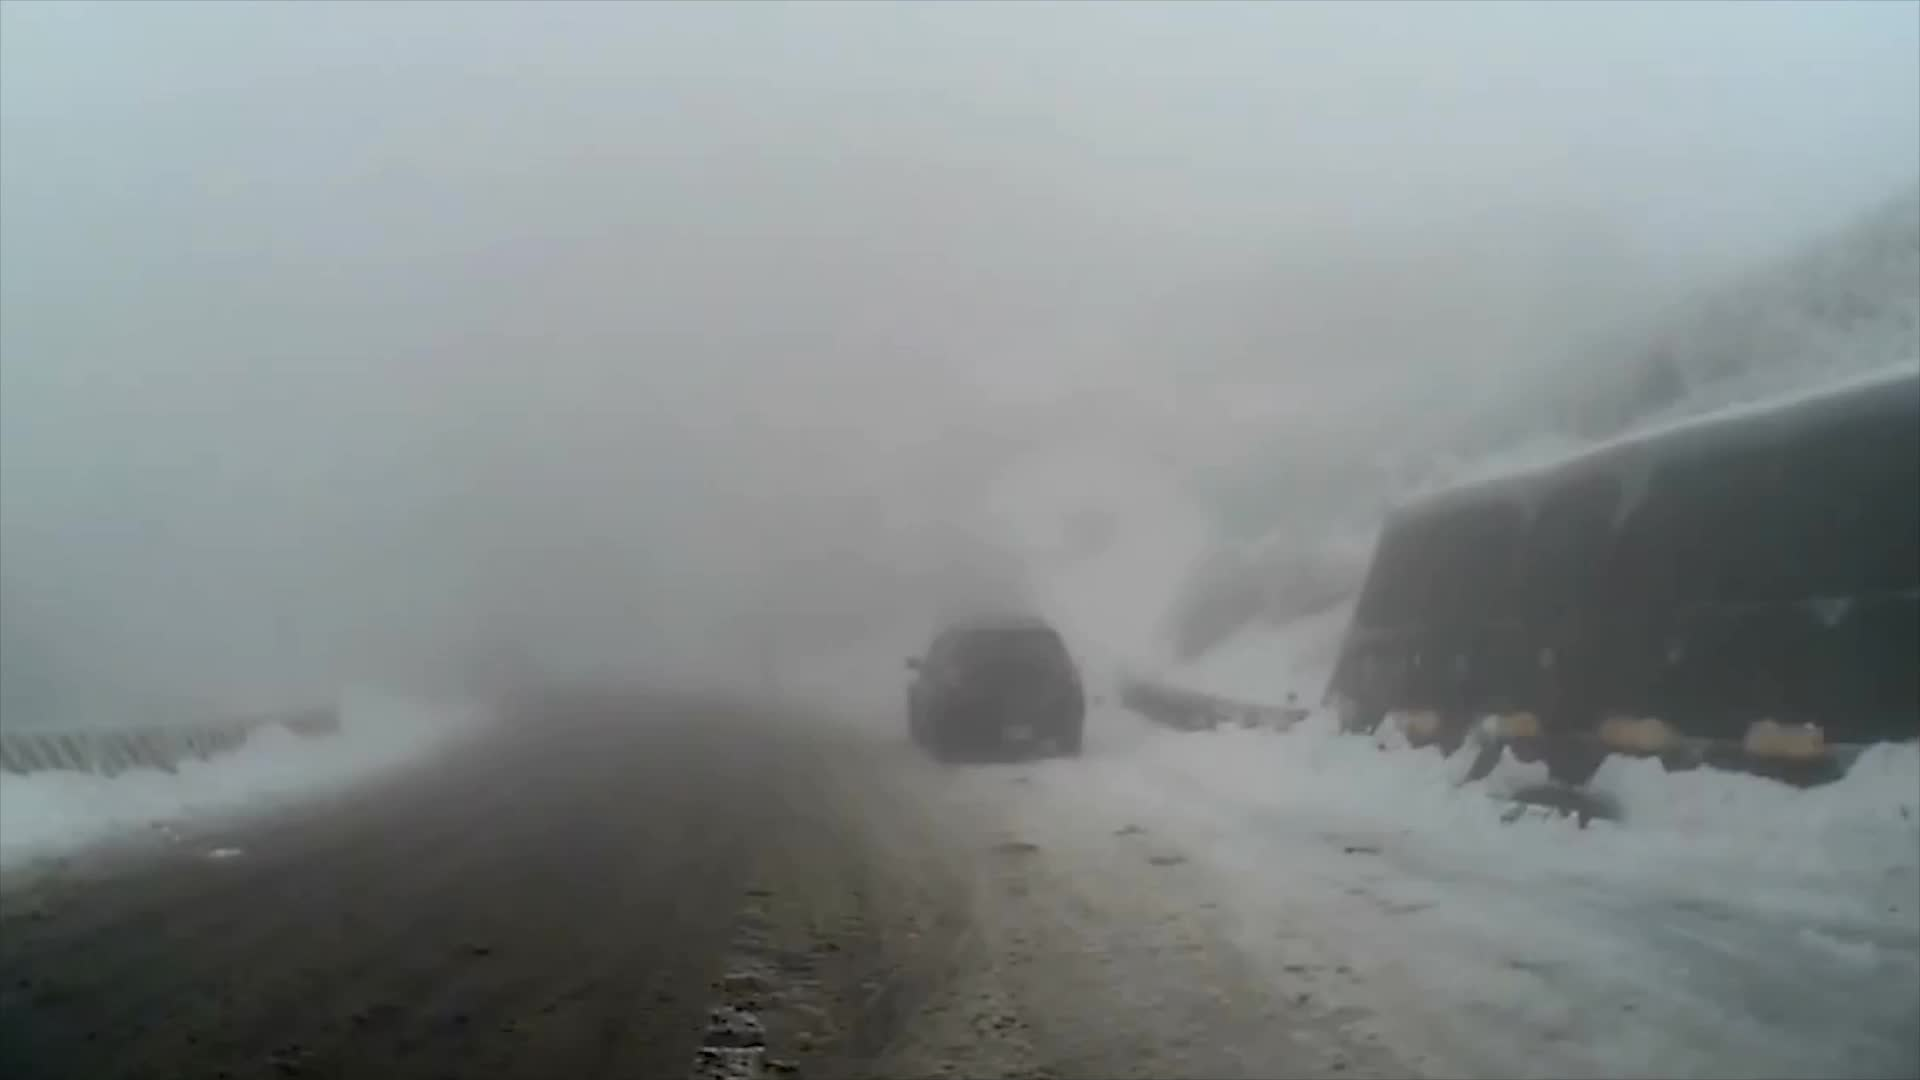vehicle: (899, 611, 1084, 764)
